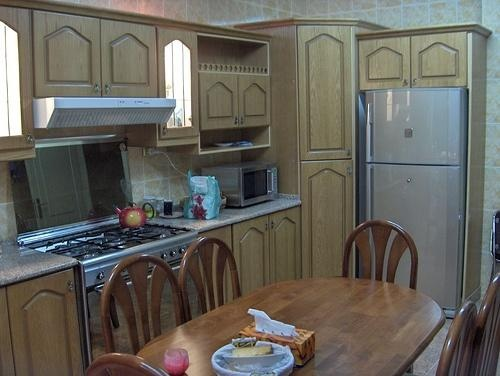chair: (101, 254, 186, 356), (178, 237, 242, 324), (342, 220, 419, 290), (436, 301, 479, 376), (469, 275, 500, 376), (85, 353, 172, 376)
diningtable: (136, 277, 446, 376)
